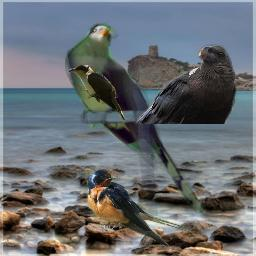Crow: (134, 43, 238, 124)
Cuckoo: (65, 23, 214, 216), (67, 65, 125, 123)
Swallow: (86, 168, 188, 246)
